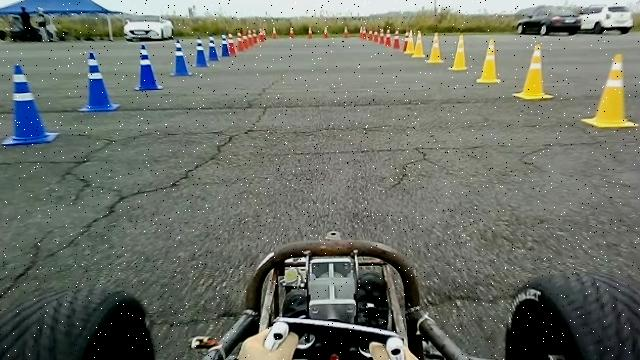blue cone: (0, 63, 58, 145), (76, 51, 120, 112), (133, 44, 162, 90), (171, 38, 194, 76), (194, 36, 212, 67), (207, 35, 220, 60)
yellow cone: (580, 53, 639, 128), (511, 43, 554, 99), (475, 38, 501, 83), (447, 33, 468, 70), (425, 32, 444, 62)
